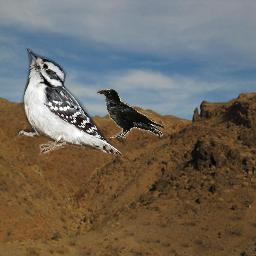Crow: (97, 89, 164, 138)
Woodpecker: (15, 48, 122, 155)
